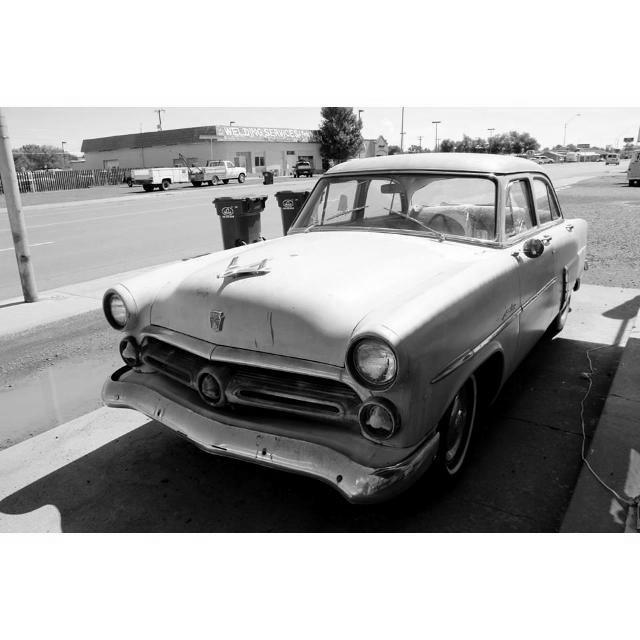bonnet-dent: (160, 229, 378, 343)
